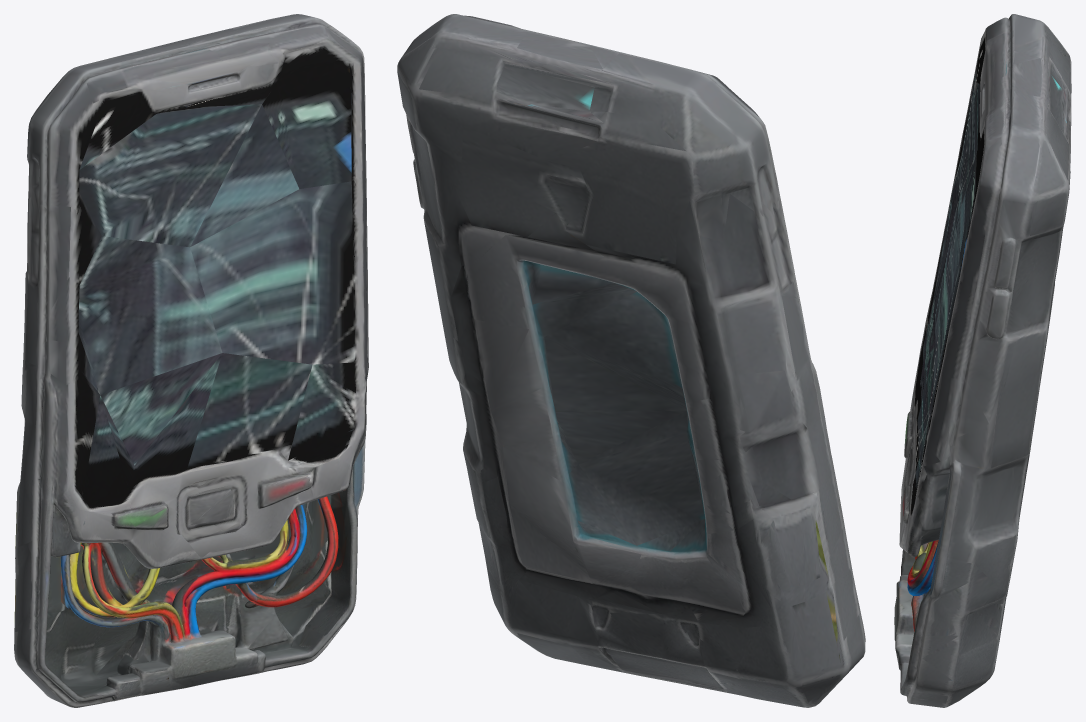
The model's file is Item_V05.fbx.
The picture shows the model from 3 angles, left to right: view 1: azimuth 30°, elevation 25°; view 2: azimuth 150°, elevation 25°; view 3: azimuth 270°, elevation 25°; orthographic projection. The views are drawn at different scales.
Parts seen in each view (by area): view 1: Body_V05; view 2: Body_V05; view 3: Body_V05.
Part boxes in pixels (x1,y1,x2,y2): Body_V05: (14,14,368,707); Body_V05: (397,14,865,707); Body_V05: (894,14,1071,707).
Bounding box in the file's own units: 0.1439 × 0.22 × 0.058.
